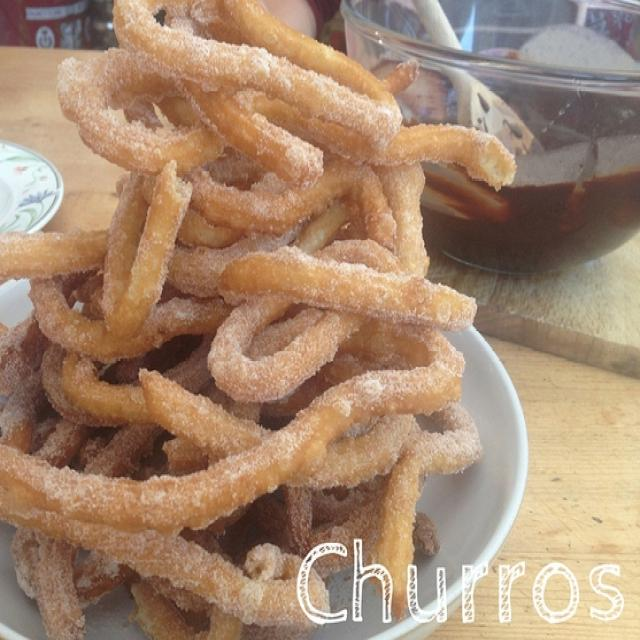炸货点心: (3, 0, 521, 634)
